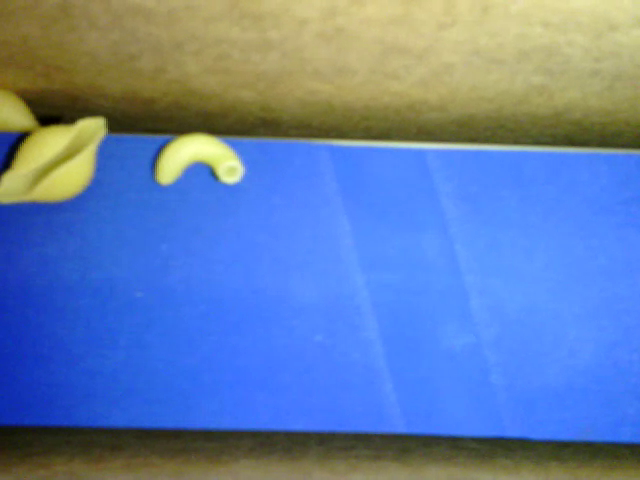elbow: (152, 127, 248, 189)
shell: (3, 112, 114, 208), (3, 87, 44, 130)
